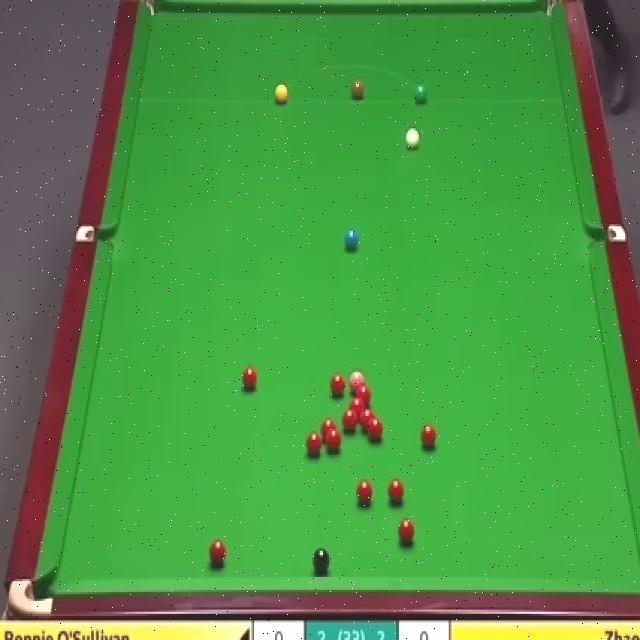black-ball: (312, 544, 330, 574)
blue-ball: (343, 227, 359, 253)
brown-ball: (351, 81, 364, 100)
green-ball: (415, 84, 427, 105)
pink-ball: (349, 370, 366, 389)
red-ball: (209, 540, 228, 567), (397, 518, 415, 546), (329, 372, 347, 399), (356, 480, 374, 504), (387, 479, 404, 504), (326, 428, 343, 452), (421, 424, 438, 448), (368, 416, 384, 441), (242, 365, 257, 390), (307, 432, 322, 454), (341, 410, 358, 429), (320, 416, 336, 435), (360, 409, 375, 428), (348, 397, 367, 411), (354, 386, 374, 398)
white-ball: (404, 126, 421, 151)
yellow-ball: (274, 82, 289, 105)
